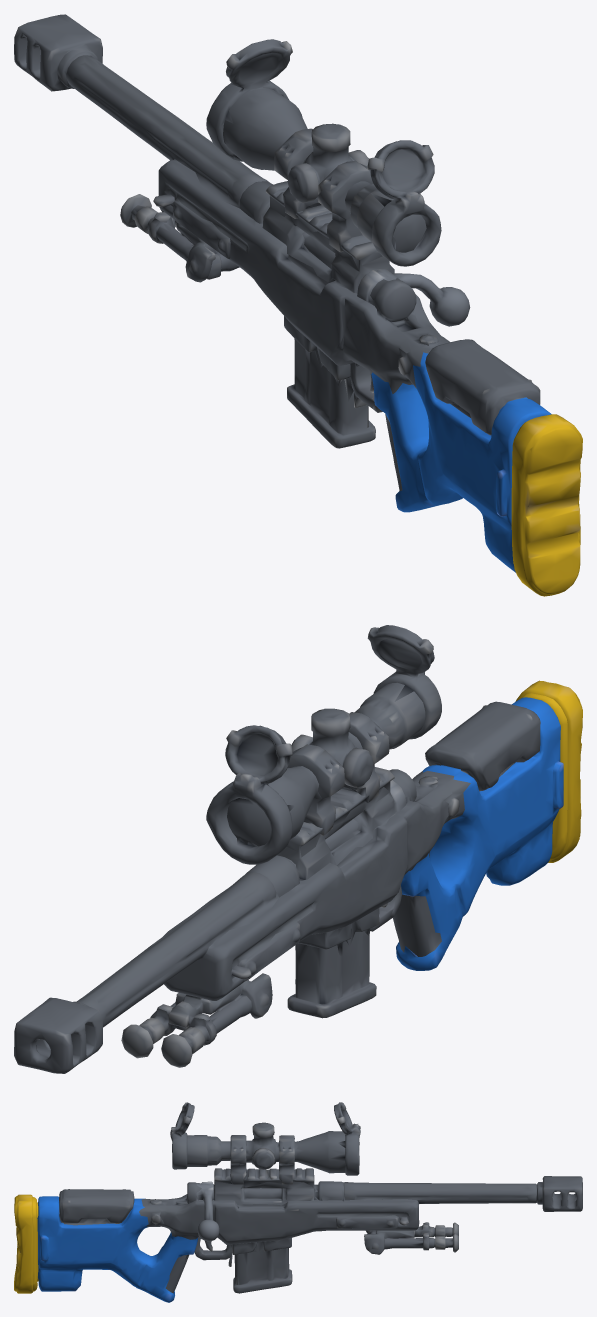
The model's file is aiguille.glb.
3 views of the same model, one above another, from view 1: azimuth 30°, elevation 25°; view 2: azimuth 150°, elevation 25°; view 3: azimuth 270°, elevation 25° (orthographic). The views are drawn at different scales.
Parts seen in each view (by area): view 1: Body, Bolt; view 2: Body; view 3: Body, Bolt.
Part boxes in pixels (x1,y1,x2,y2): Body: (14, 14, 582, 596); Bolt: (357, 269, 470, 326); Body: (14, 625, 582, 1073); Body: (14, 1102, 582, 1302); Bolt: (196, 1181, 219, 1241).
Bounding box in the file's own units: 0.1079 × 0.2718 × 0.72.
